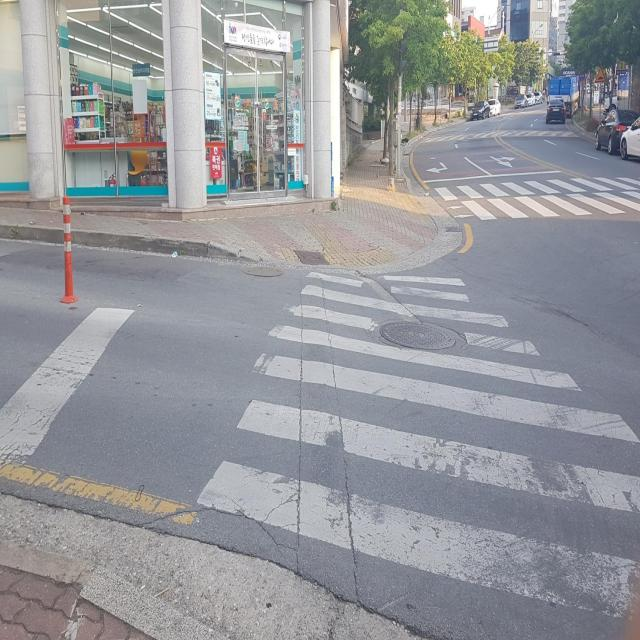횡단보도: (194, 262, 640, 628), (434, 175, 640, 224), (420, 132, 584, 141)
